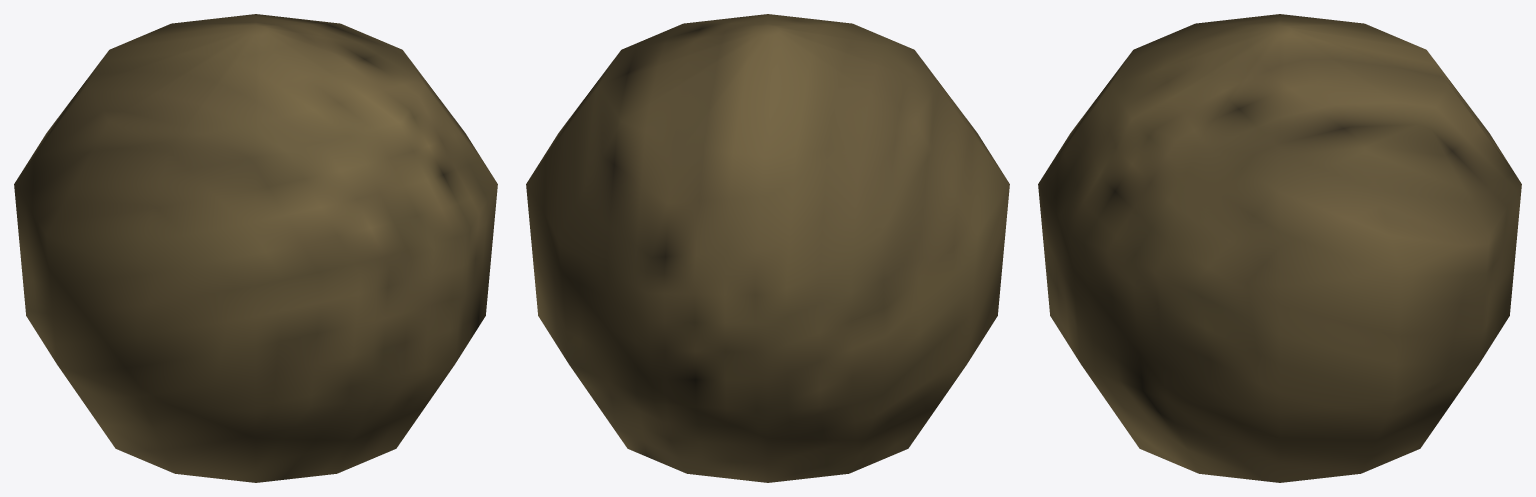
Rendered from fx_dust.glb.
The picture shows the model from 3 angles, left to right: view 1: azimuth 30°, elevation 25°; view 2: azimuth 150°, elevation 25°; view 3: azimuth 270°, elevation 25°; orthographic projection.
Visible parts, largest first — view 1: fx_dust.001; view 2: fx_dust.001; view 3: fx_dust.001.
Part boxes in pixels (bbox=[...]): fx_dust.001: bbox=[14, 14, 497, 482]; fx_dust.001: bbox=[526, 14, 1009, 482]; fx_dust.001: bbox=[1038, 14, 1521, 482].
Bounding box in the file's own units: 0.16 × 0.16 × 0.16.
1 material, 1 textured.
